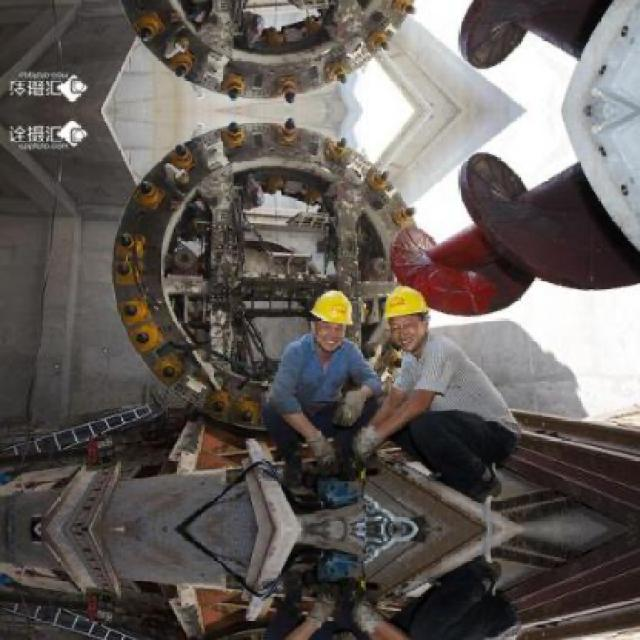helmet: (380, 278, 432, 349), (308, 284, 355, 348)
